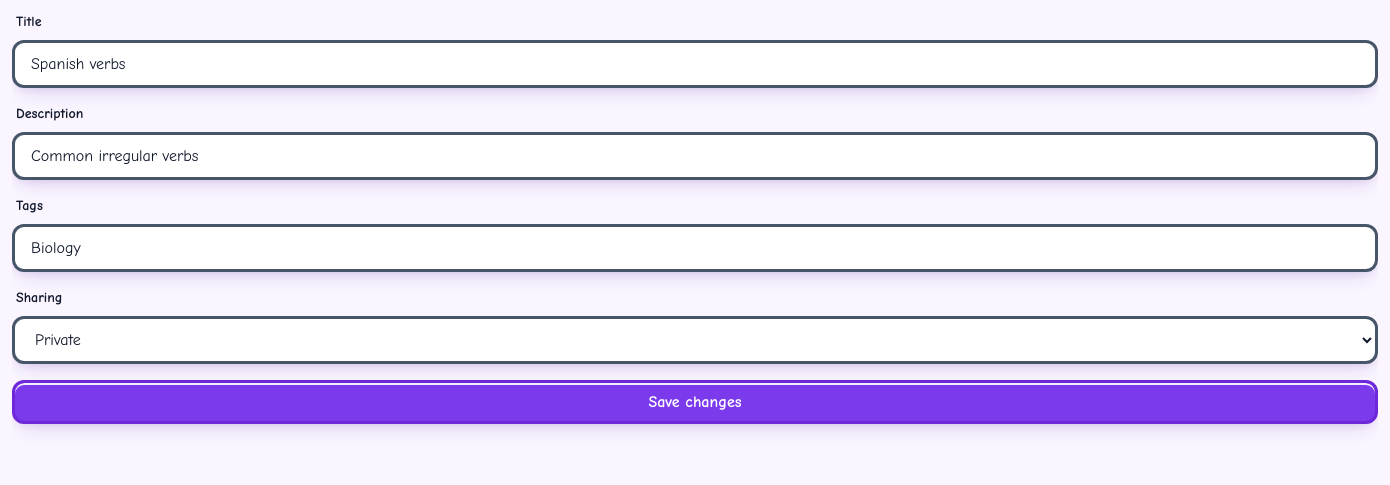
Test: EditSetForm › shows an error and keeps the values when saving the tags fails
Click the button "Save changes". click: (695, 402)
box: [12, 380, 1378, 424]
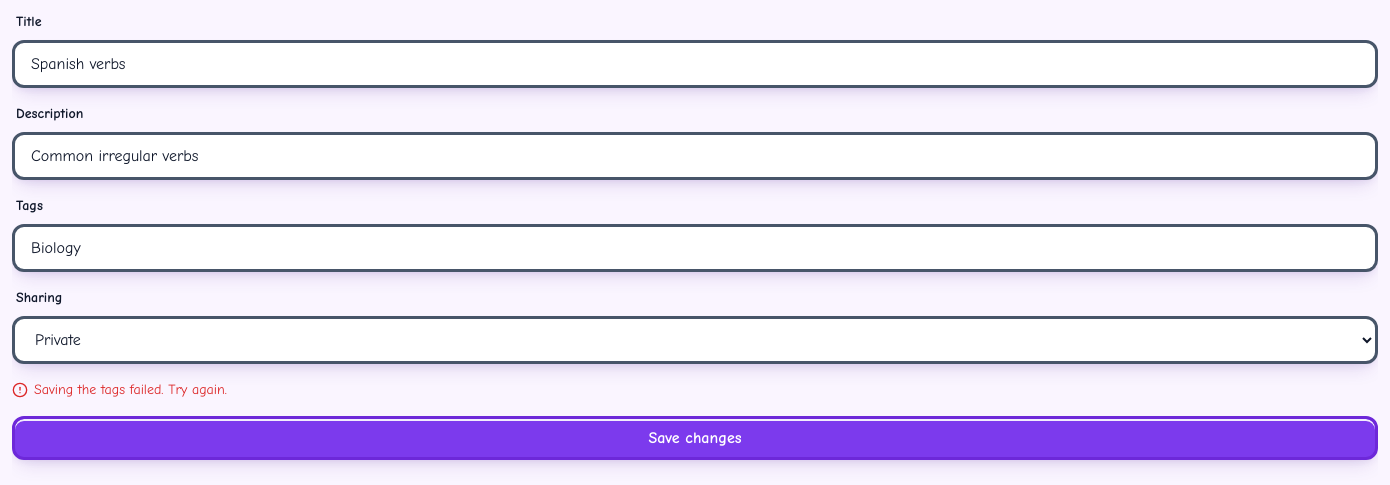
Check: the field labelled "Tags" holds "Biology", box [12, 224, 1378, 272]
Check: the message reads "Saving the tags failed. Try again.", box [34, 381, 227, 398]
